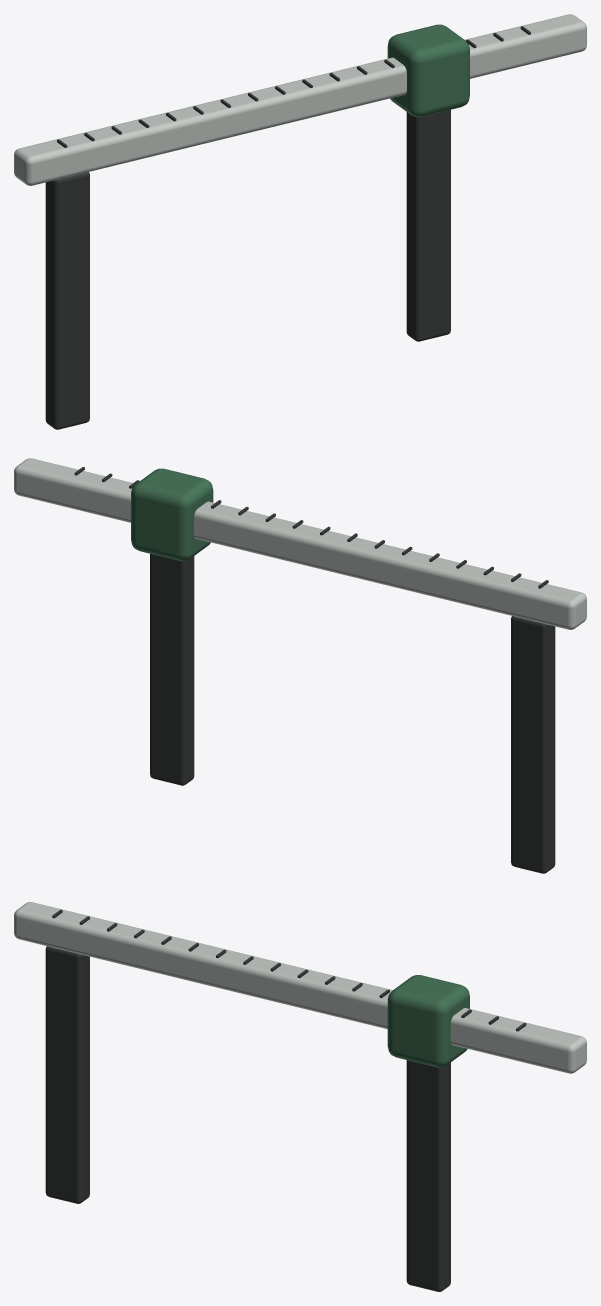
The model's file is sawmill-and-timber-yard-log-caliper-d8abebda__31202.glb.
3 views of the same model, one above another, from view 1: azimuth 30°, elevation 25°; view 2: azimuth 150°, elevation 25°; view 3: azimuth 330°, elevation 25° (orthographic).
Parts seen in each view (by area): view 1: log-caliper; view 2: log-caliper; view 3: log-caliper.
Boxes of the visible parts, left/top/right/bottom form: log-caliper: left=14, top=14, right=586, bottom=429; log-caliper: left=14, top=458, right=586, bottom=873; log-caliper: left=14, top=902, right=586, bottom=1291.
Size of the model in its own units: 0.7 by 0.355 by 0.065.
